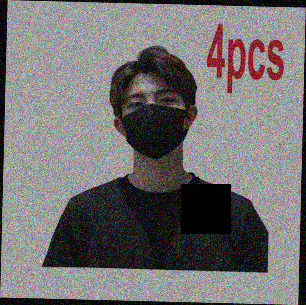with_mask: (121, 84, 187, 159)
